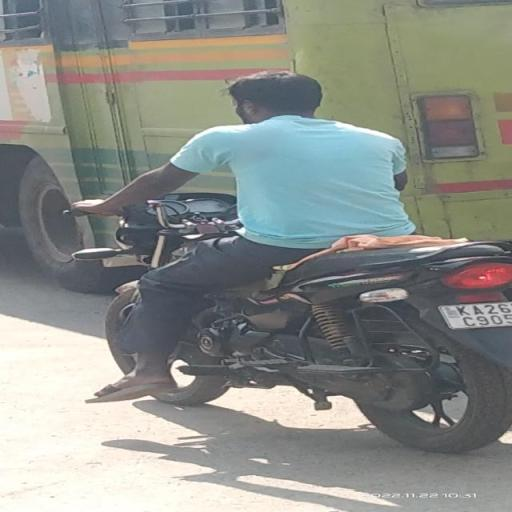bike: (69, 67, 512, 446)
numberplate: (441, 296, 512, 328)
withouthelmet: (234, 72, 321, 118)
